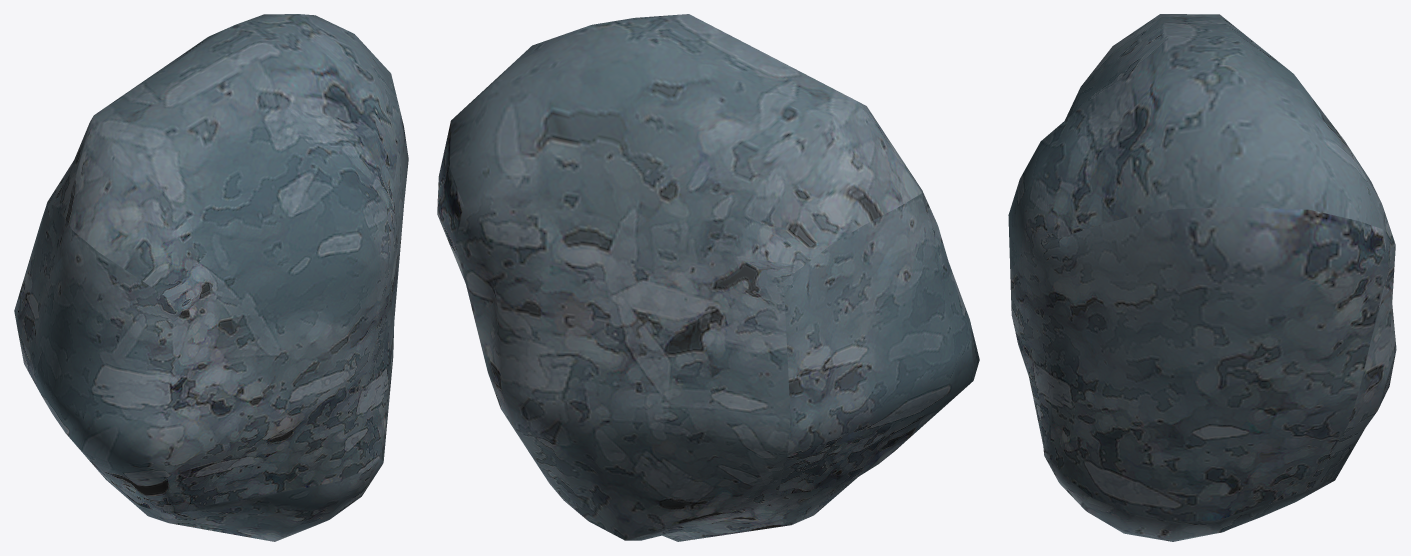
Rendered from rock20.fbx.
3 renders of one model, left to right at view 1: azimuth 30°, elevation 25°; view 2: azimuth 150°, elevation 25°; view 3: azimuth 270°, elevation 25°, orthographic. The views are drawn at different scales.
Visible parts, largest first — view 1: pCube1; view 2: pCube1; view 3: pCube1.
Part boxes in pixels (x1,y1,x2,y2): pCube1: [14, 14, 408, 541]; pCube1: [437, 14, 979, 541]; pCube1: [1008, 14, 1396, 541].
Size of the model in its own units: 5.66 by 6.53 by 4.64.
